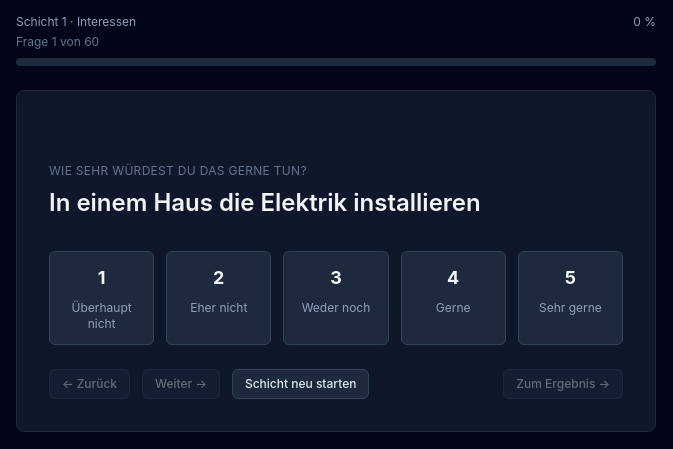
Test case: AssessmentPage › Likert interaction › clicking a Likert button records the answer and advances to the next question
Click the button "3 Weder noch".
click(336, 298)  # box top-left (283, 251), bottom-right (389, 345)
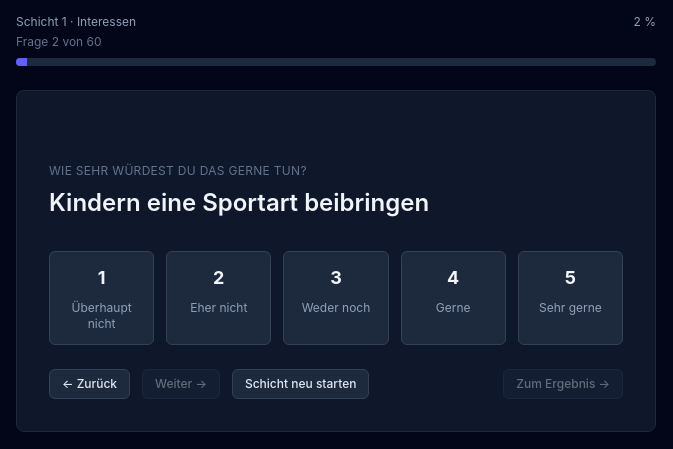
Now the text "Frage 2 von 60" is shown, box top-left (16, 34), bottom-right (102, 50)
